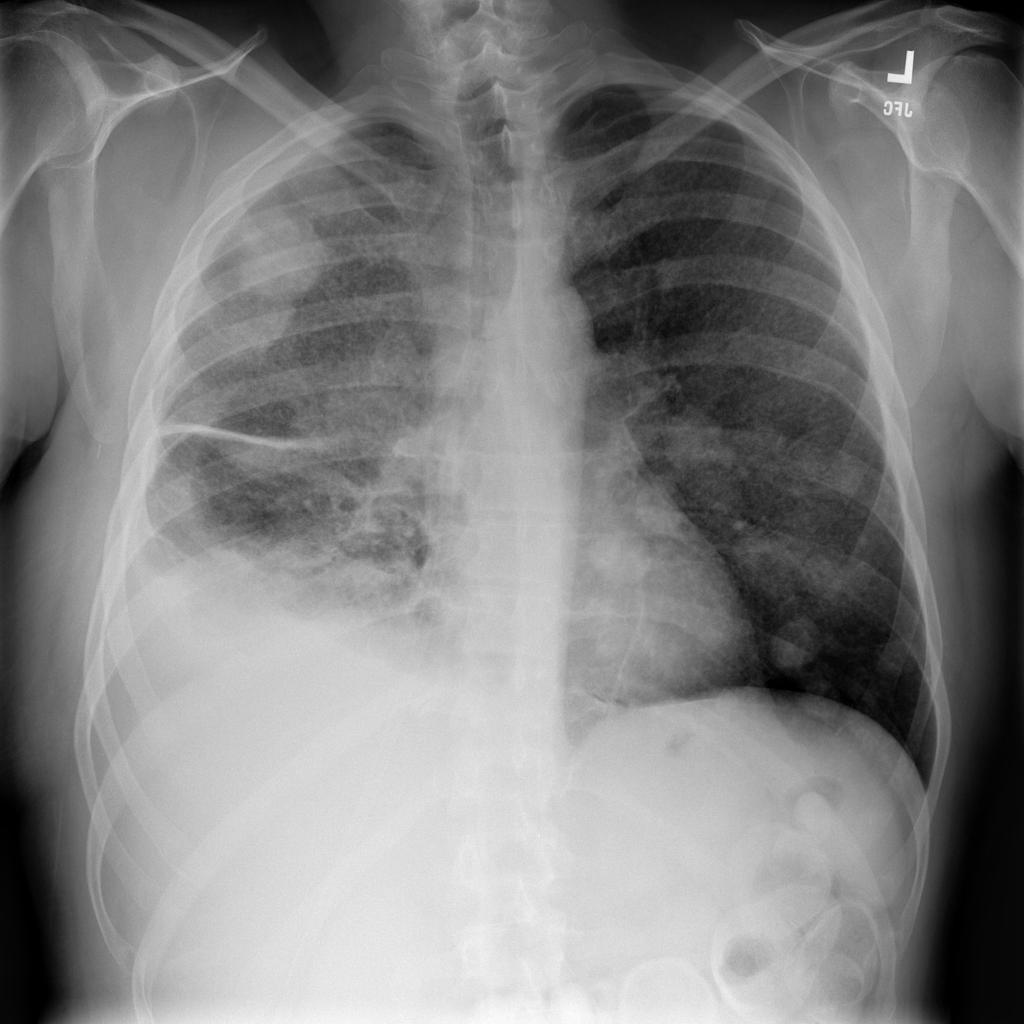nodule: (215, 189, 348, 320), (645, 393, 760, 496), (758, 602, 833, 680), (580, 515, 659, 588), (618, 471, 697, 542), (863, 613, 933, 691)
